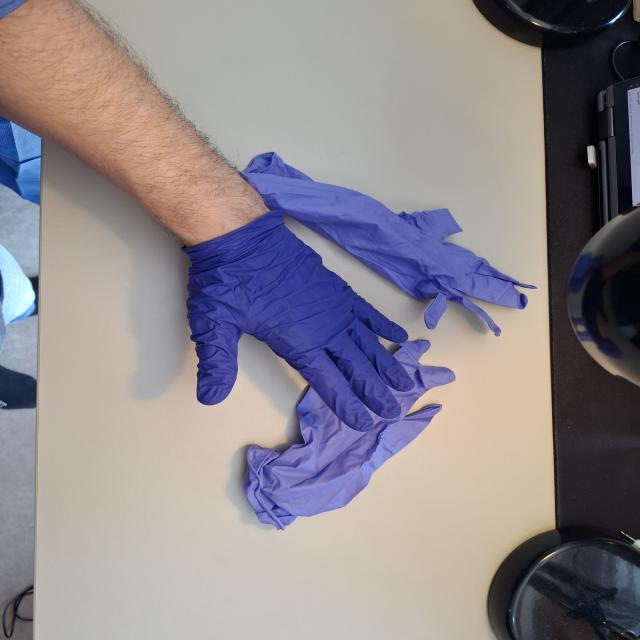glove_on: (177, 208, 418, 434)
